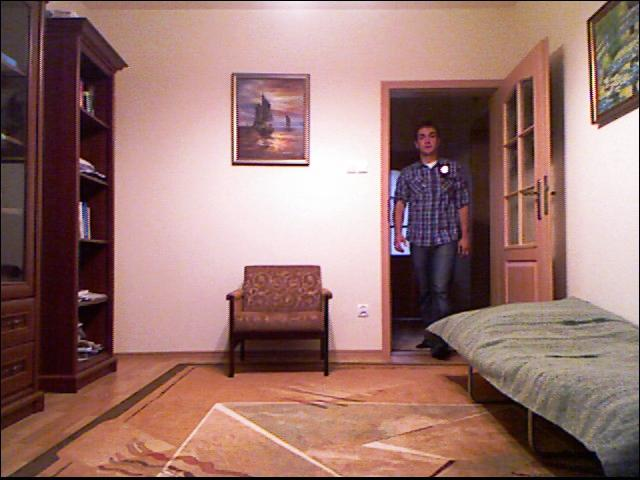walking: (390, 116, 481, 378)
